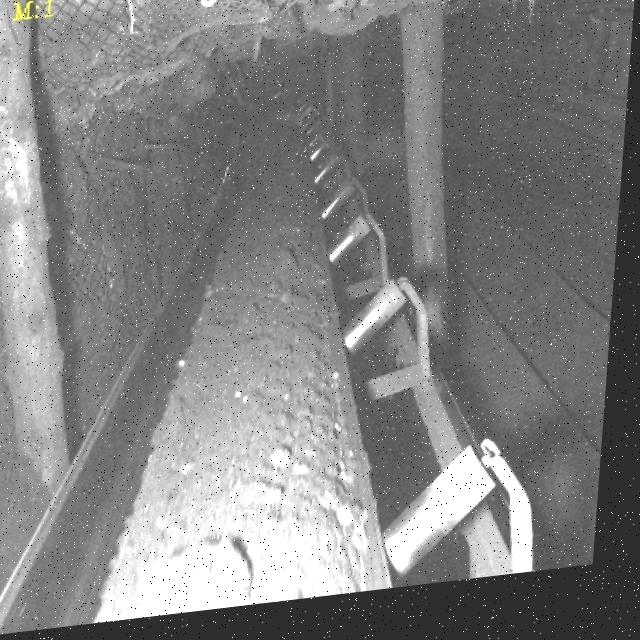large_sized_coal: (145, 543, 264, 623), (247, 486, 290, 517), (281, 452, 303, 478)
